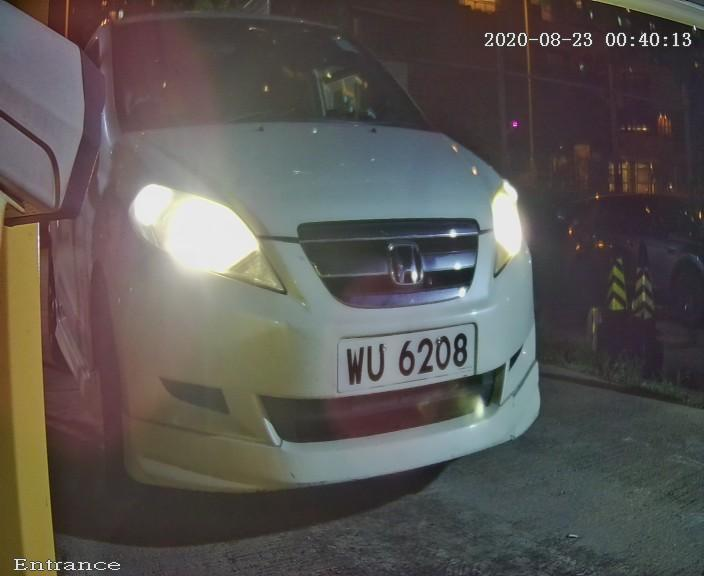Car: (32, 13, 595, 512)
License Plate: (309, 304, 508, 422)
